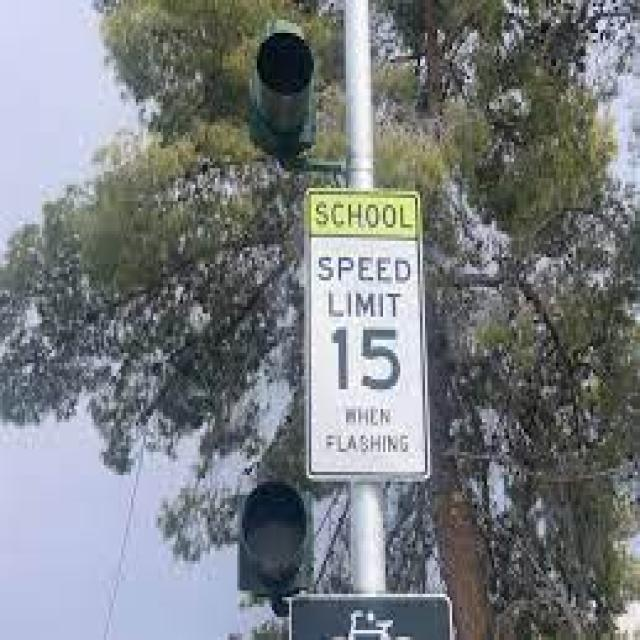speedLimit15: (304, 234, 430, 406)
